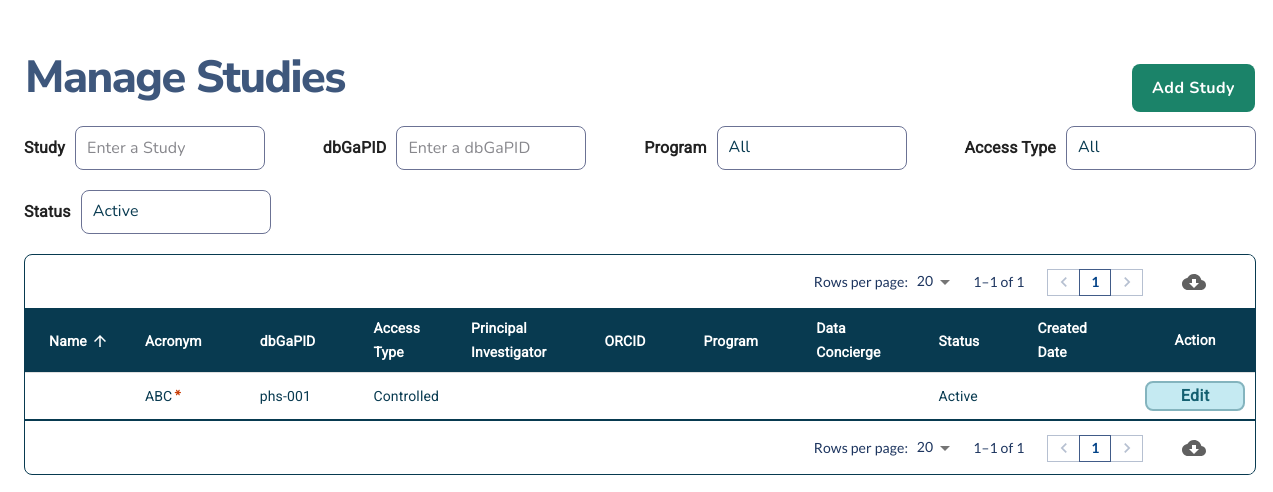
Test: Implementation Requirements › should render asterisk and correct tooltip for pending GPA condition
The width and height of the screenshot is (1273, 492).
Expected: the text "ABC" is shown, [145, 388, 172, 404]
Hover over the text with test id "asterisk-ABC" at point(178, 396), box [174, 385, 182, 407]
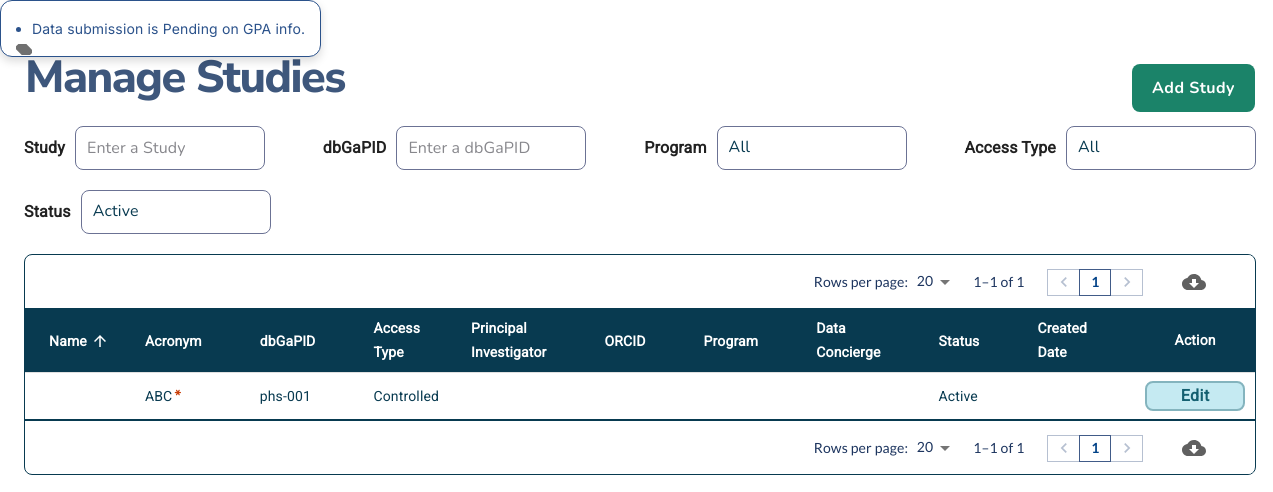
Now the list item "Data submission is Pending on GPA info." is shown, box [32, 19, 305, 38]
